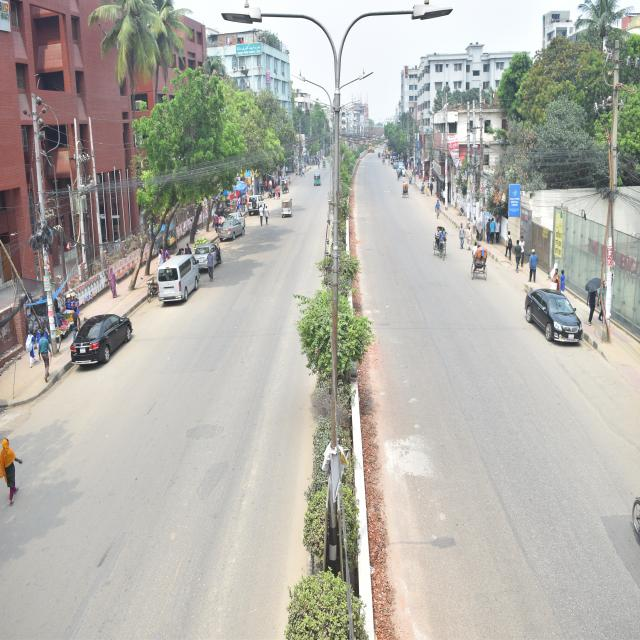car: (64, 295, 150, 380), (521, 272, 591, 374), (209, 214, 254, 252), (190, 235, 230, 275), (243, 189, 270, 220)
microbus: (151, 248, 211, 310)
